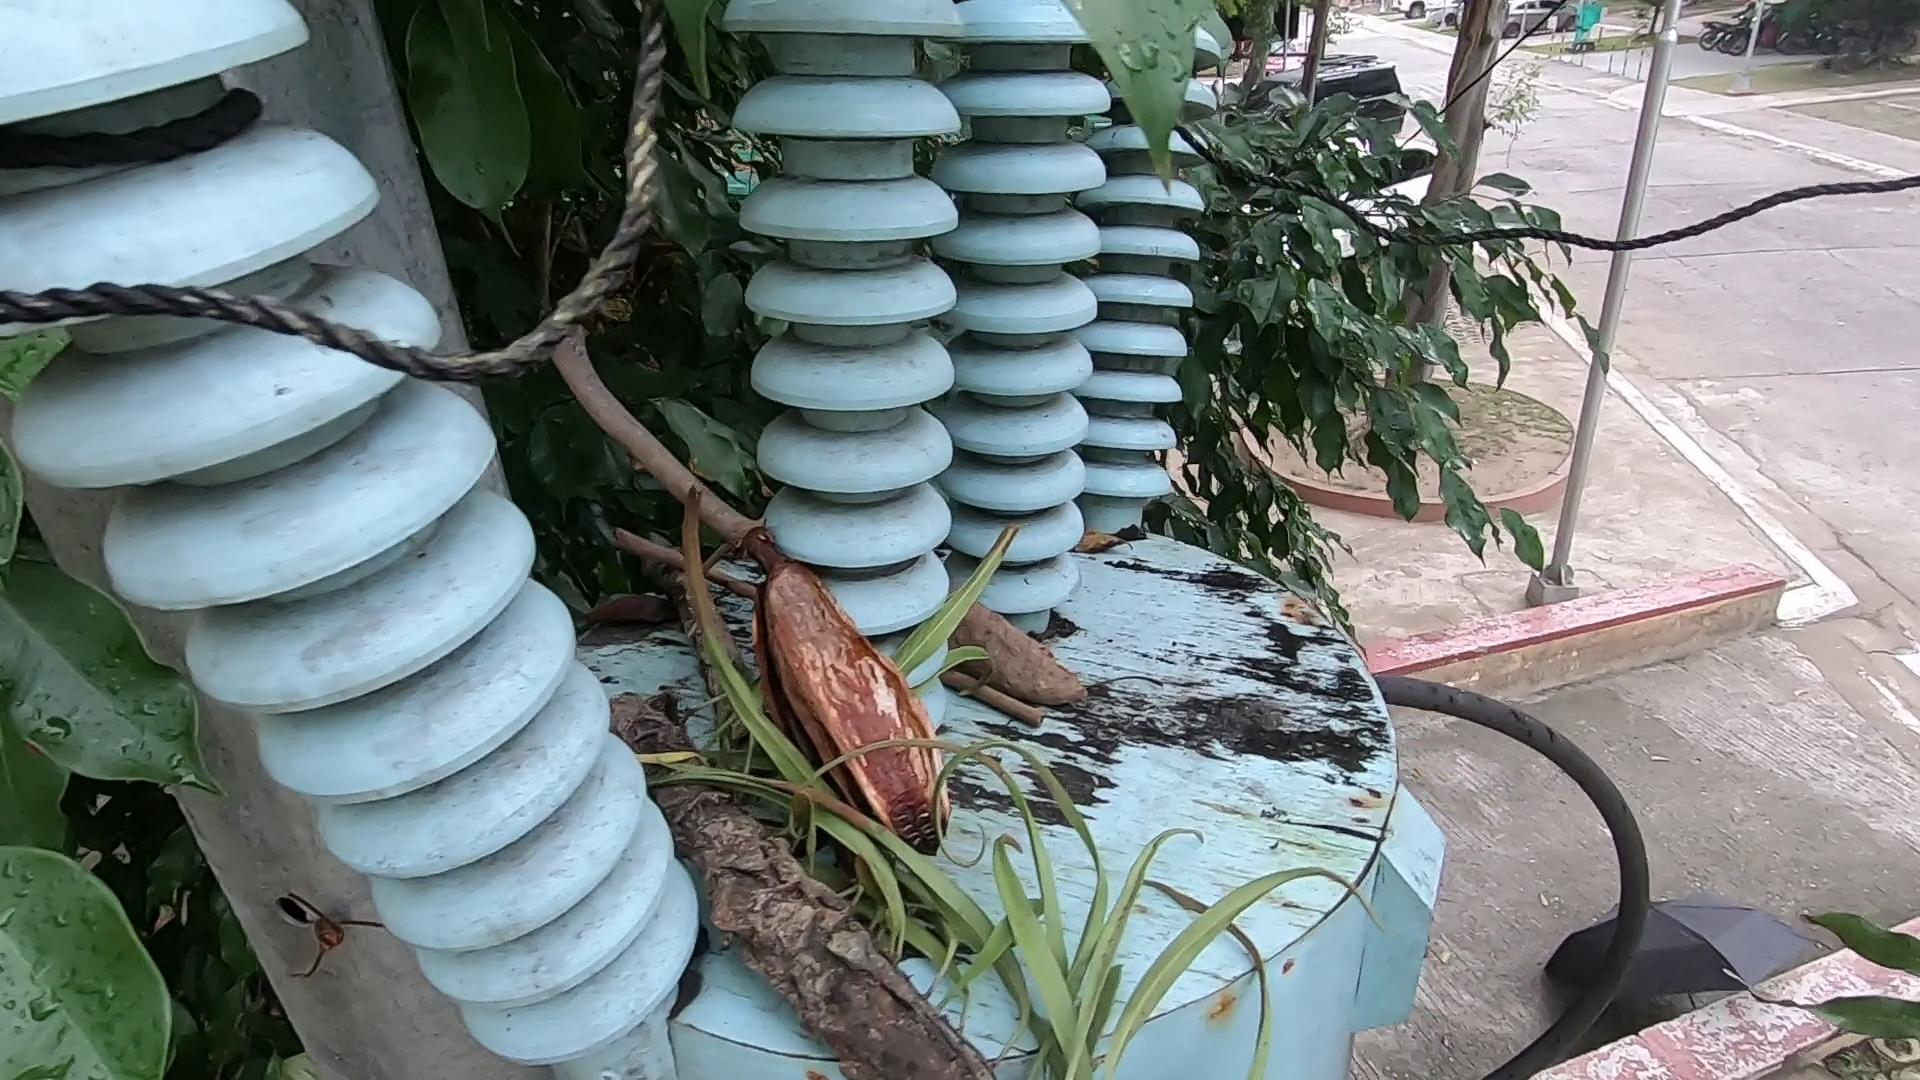branch with leaves: (570, 605, 1147, 1077)
leaf: (1058, 506, 1162, 597)
mahogany fruit: (733, 549, 947, 884), (956, 589, 1122, 774)
tree branch: (601, 524, 1039, 735), (545, 313, 812, 563)
